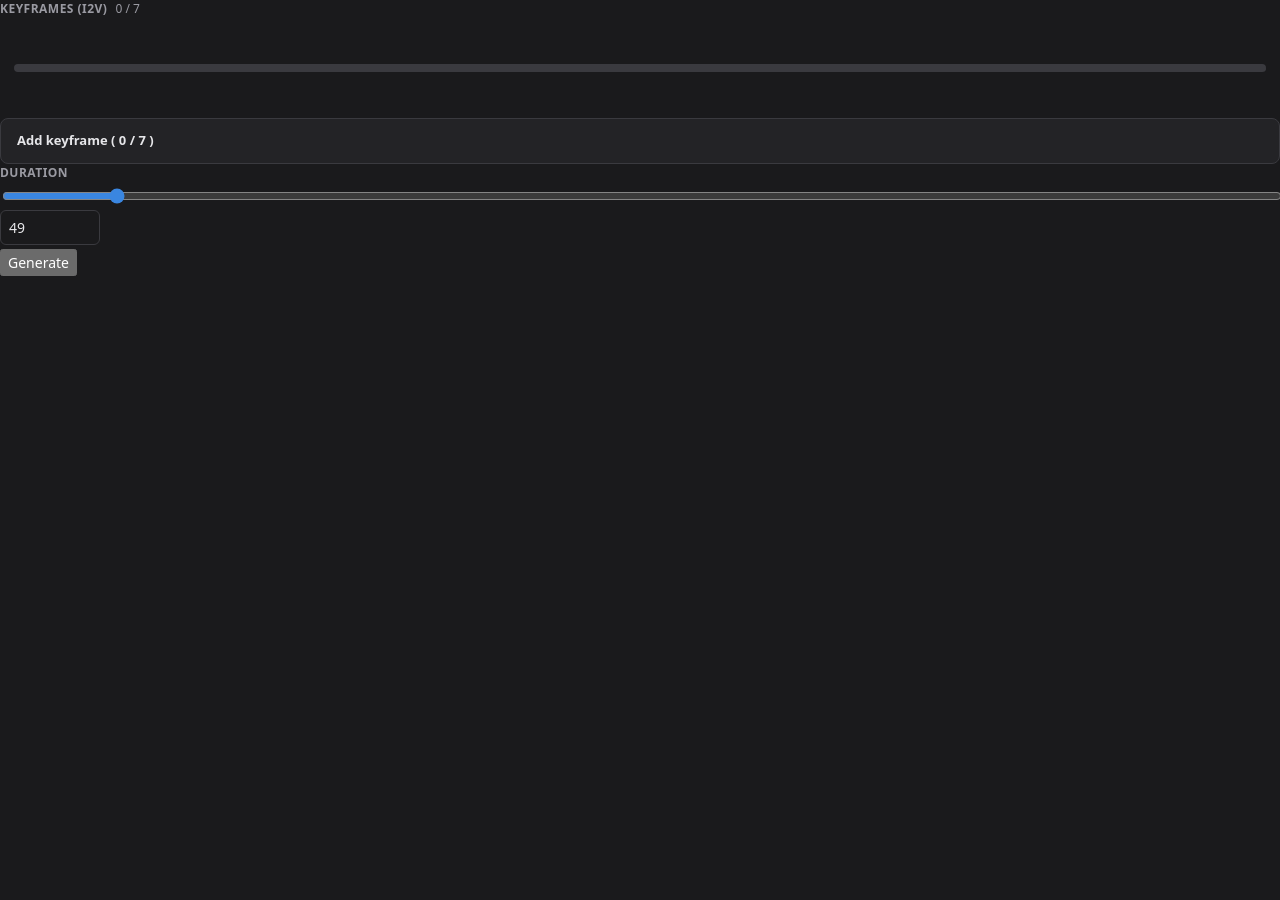
KeyframesPanel + duration-shrink guard (SingleScreen wiring) › shrinking below a keyframe raises the modal, blocks Generate, and Apply deletes the stranded keyframe
Click the button "Add keyframe ( 0 / 7 )".
click(85, 140)  # box [0,118,1279,164]
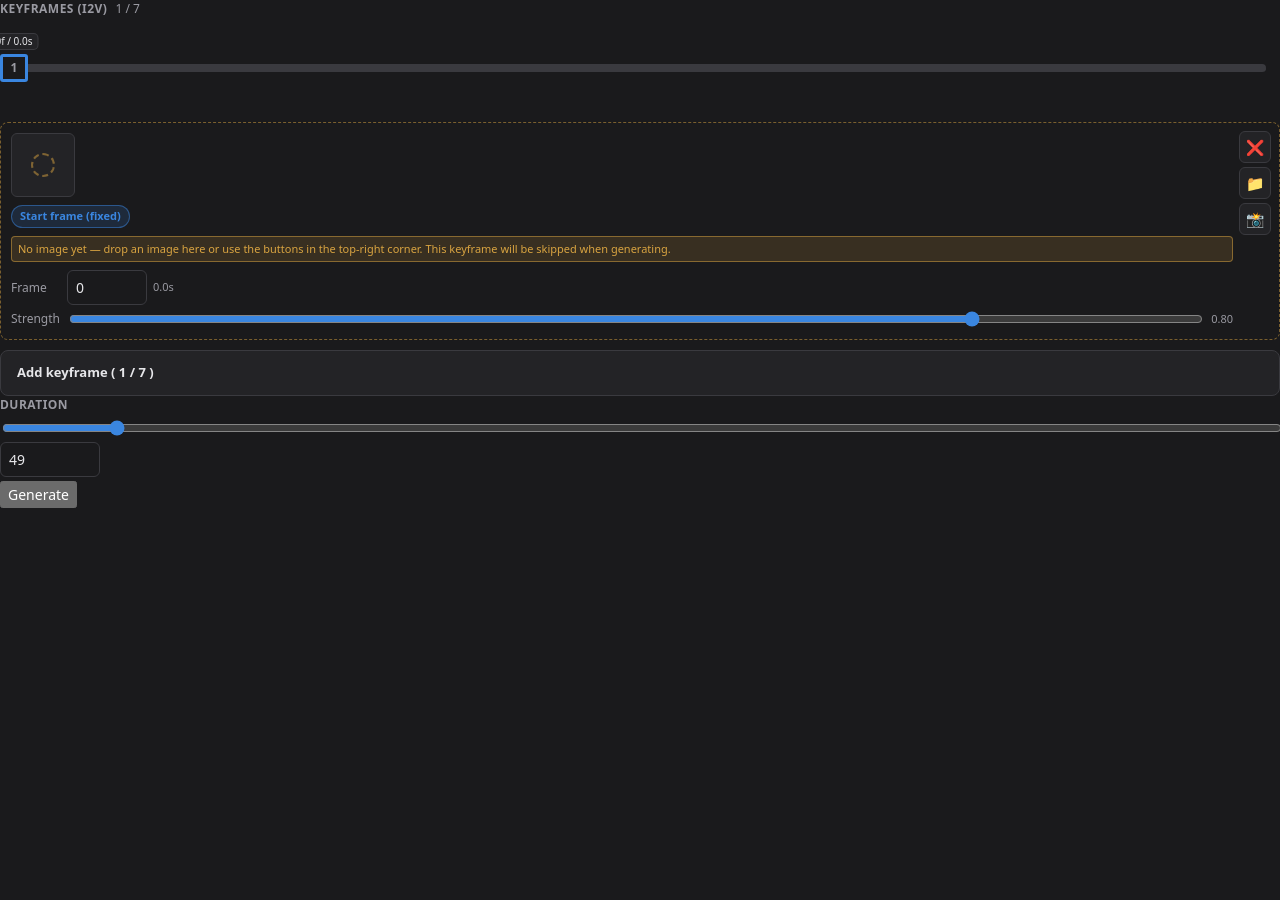
Replace the text in the number field labelled "Frame 0.0s" with "41" at (107, 288), box [67,270,147,305]
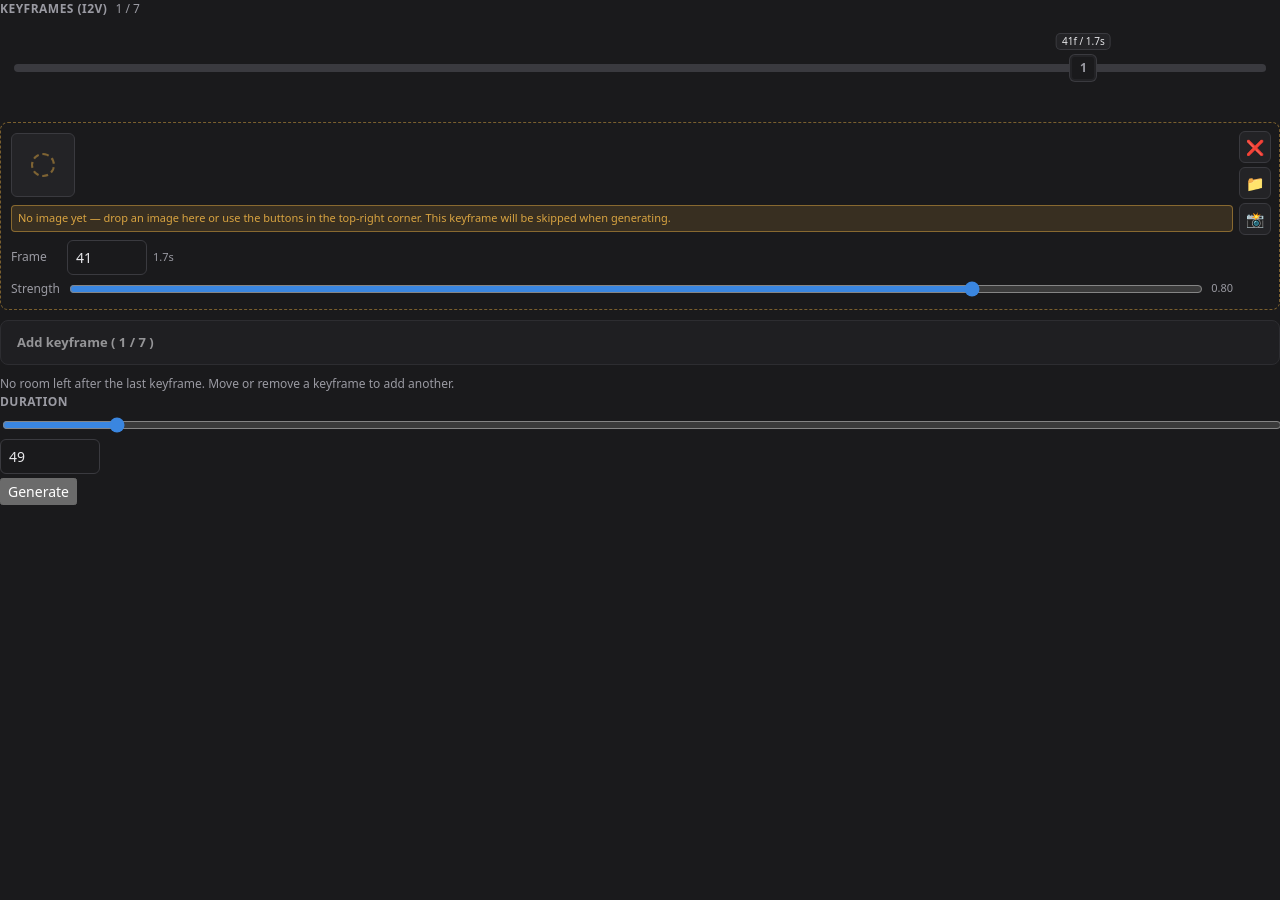
expect the button "Generate" is enabled: met, box [0,478,77,505]
Replace the text in the 2nd number field with "9" at (50, 456), box [0,439,100,474]
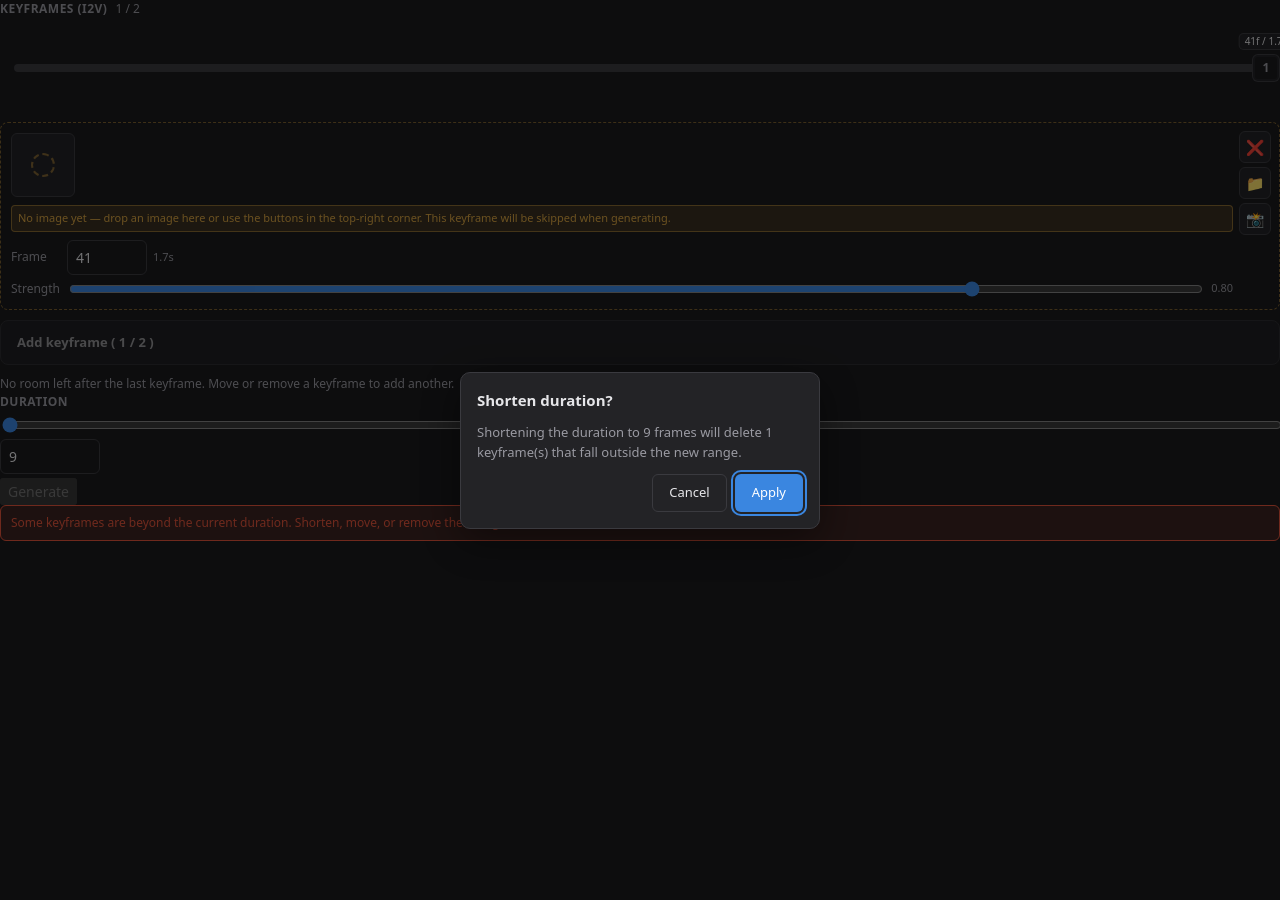
expect the heading "Shorten duration?" is shown: met, box [477,390,613,410]
expect the button "Generate" is disabled: met, box [0,478,77,505]
expect the text "beyond the current duration" is shown: met, box [11,514,546,531]
Click the button "Apply".
click(769, 493)  # box [735,474,803,512]
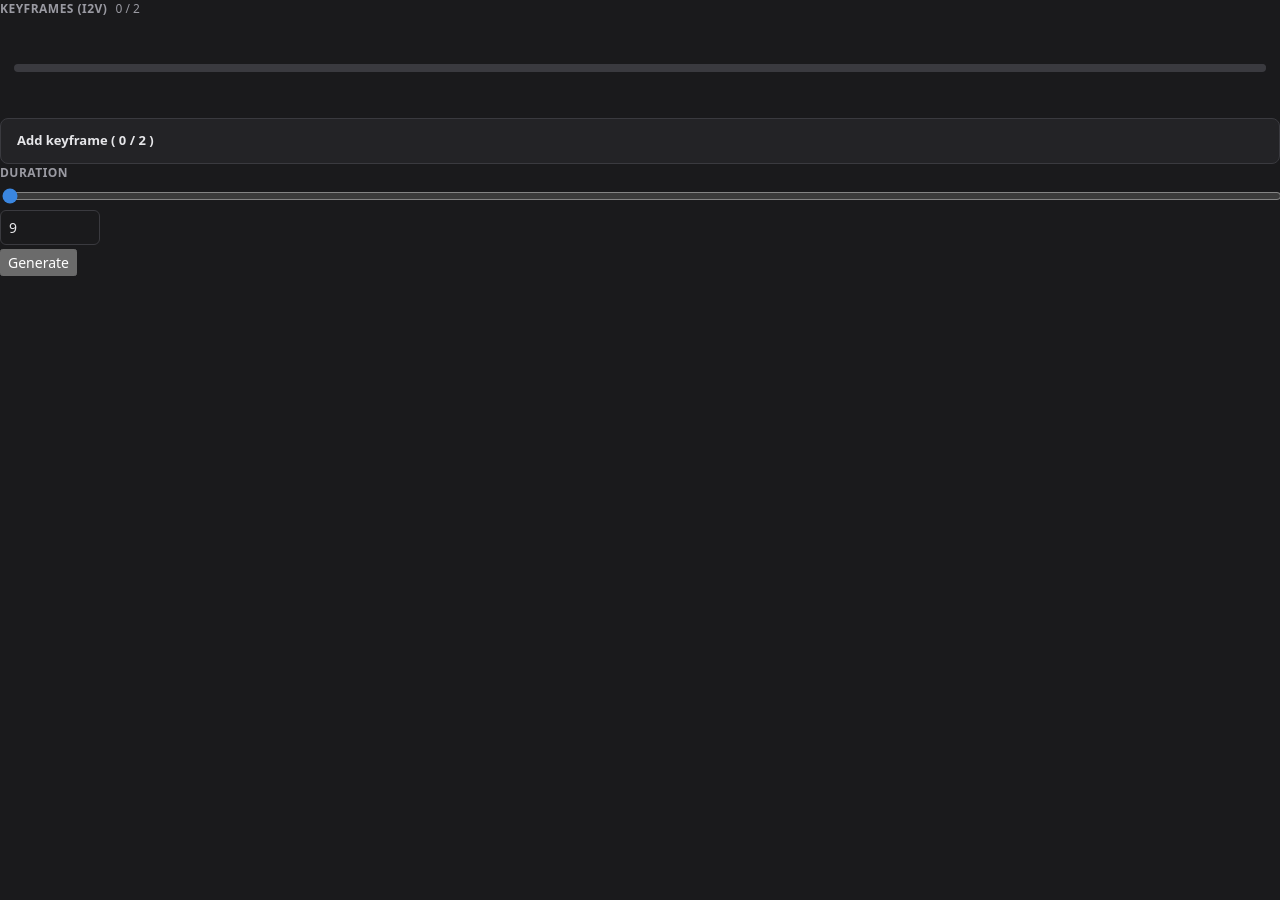
expect the list item with class "kfc-card" is gone: met
expect the heading "Shorten duration" is gone: met
expect the button "Generate" is enabled: met, box [0,248,77,276]
